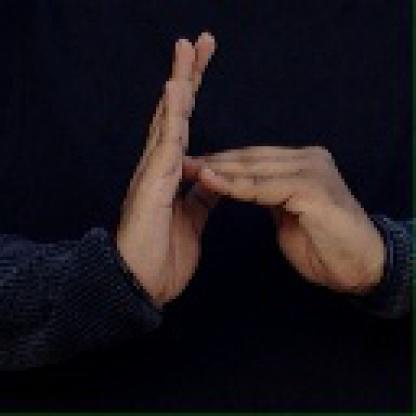Z: (147, 18, 351, 328)
